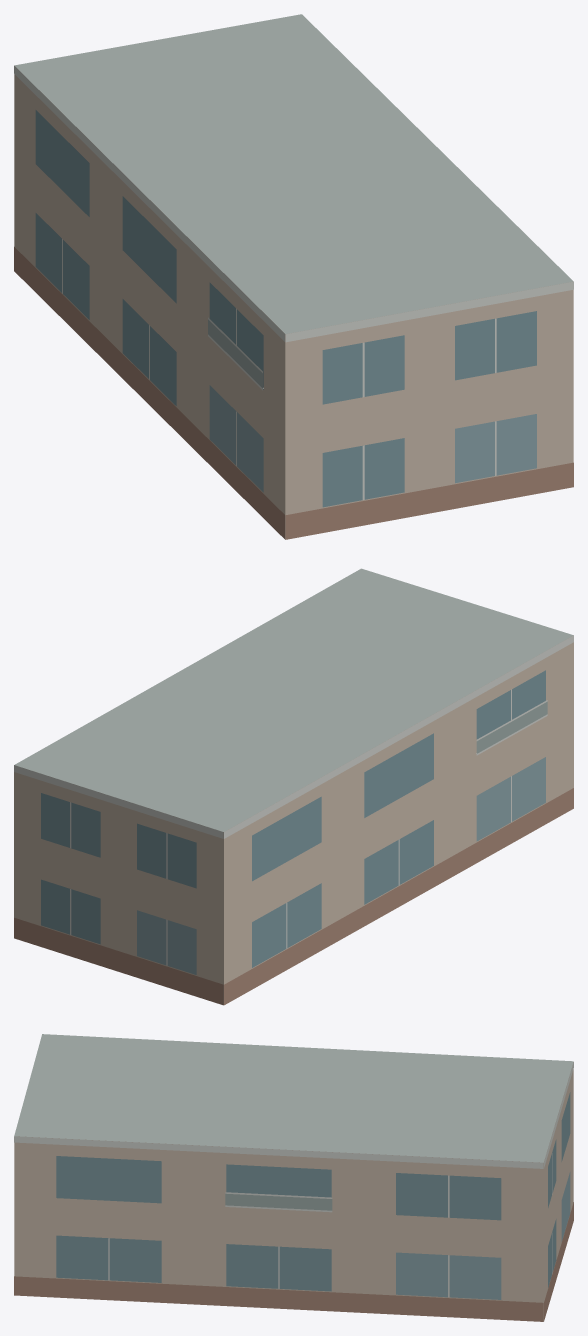
The model's file is survey-upis-32725587.glb.
3 views of the same model, one above another, from view 1: azimuth 30°, elevation 25°; view 2: azimuth 150°, elevation 25°; view 3: azimuth 270°, elevation 25° (orthographic). The views are drawn at different scales.
Parts seen in each view (by area): view 1: survey-upis-32725587.tmp; view 2: survey-upis-32725587.tmp; view 3: survey-upis-32725587.tmp.
Part boxes in pixels (box(x1,y1,x2,y2)): survey-upis-32725587.tmp: box(14, 14, 573, 539); survey-upis-32725587.tmp: box(14, 568, 573, 1005); survey-upis-32725587.tmp: box(14, 1034, 573, 1321).
Bounding box in the file's own units: 10.58 × 6.1 × 19.44.
